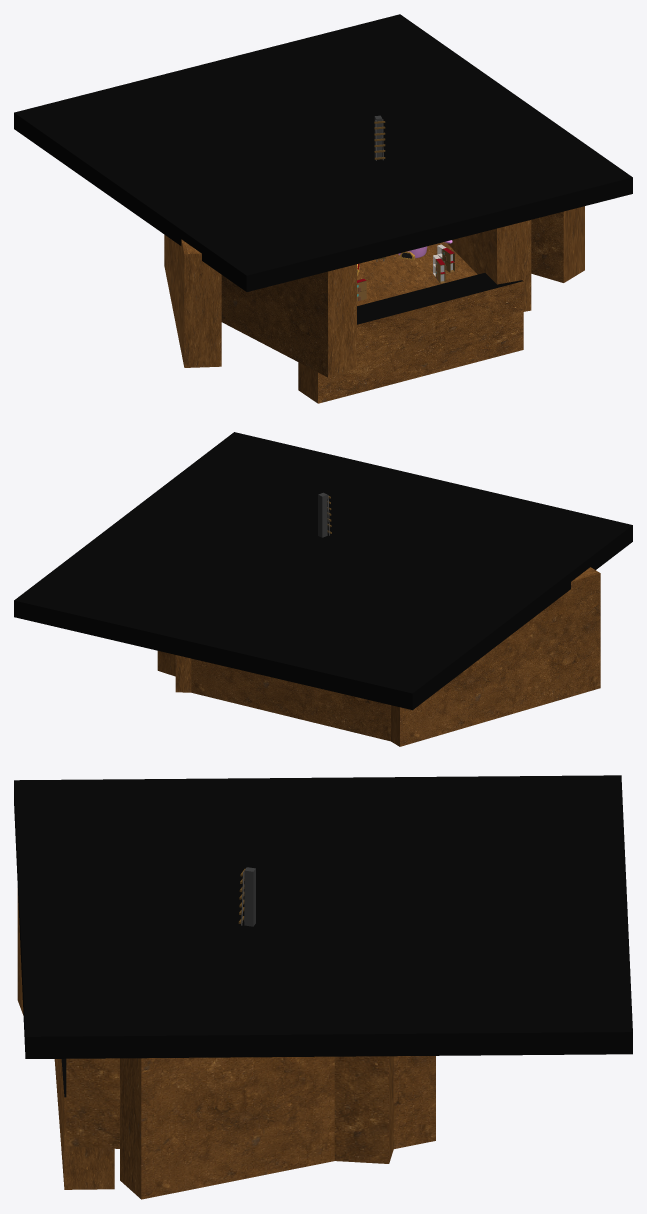
Rendered from VILLAGE.fbx.
3 renders of one model, top to bottom at view 1: azimuth 30°, elevation 25°; view 2: azimuth 150°, elevation 25°; view 3: azimuth 270°, elevation 25°, orthographic. The views are drawn at different scales.
Visible parts, largest first — view 1: pCube9, pCube8, pCube6, pCube4, pCube7, pCube5, pCube2; view 2: pCube9, pCube4, pCube3, pCube5; view 3: pCube9, pCube5, pCube7, pCube8, pasted__saksak.
Boxes of the visible parts, box(x1,y1,x2,y2) form: pCube9: box(14, 14, 632, 291); pCube8: box(298, 273, 523, 403); pCube6: box(221, 264, 356, 377); pCube4: box(164, 234, 221, 367); pCube7: box(447, 220, 531, 311); pCube5: box(531, 206, 584, 282); pCube2: box(357, 242, 477, 305); pCube9: box(14, 432, 632, 710); pCube4: box(391, 567, 600, 746); pCube3: box(191, 658, 390, 741); pCube5: box(175, 655, 191, 692); pCube9: box(14, 775, 632, 1058); pCube5: box(120, 1056, 435, 1199); pCube7: box(66, 1056, 393, 1163); pCube8: box(54, 1058, 114, 1189); pasted__saksak: box(244, 867, 255, 926).
Size of the model in its own units: 531 by 251 by 520.
Materials: 29 (2 with a texture image).
